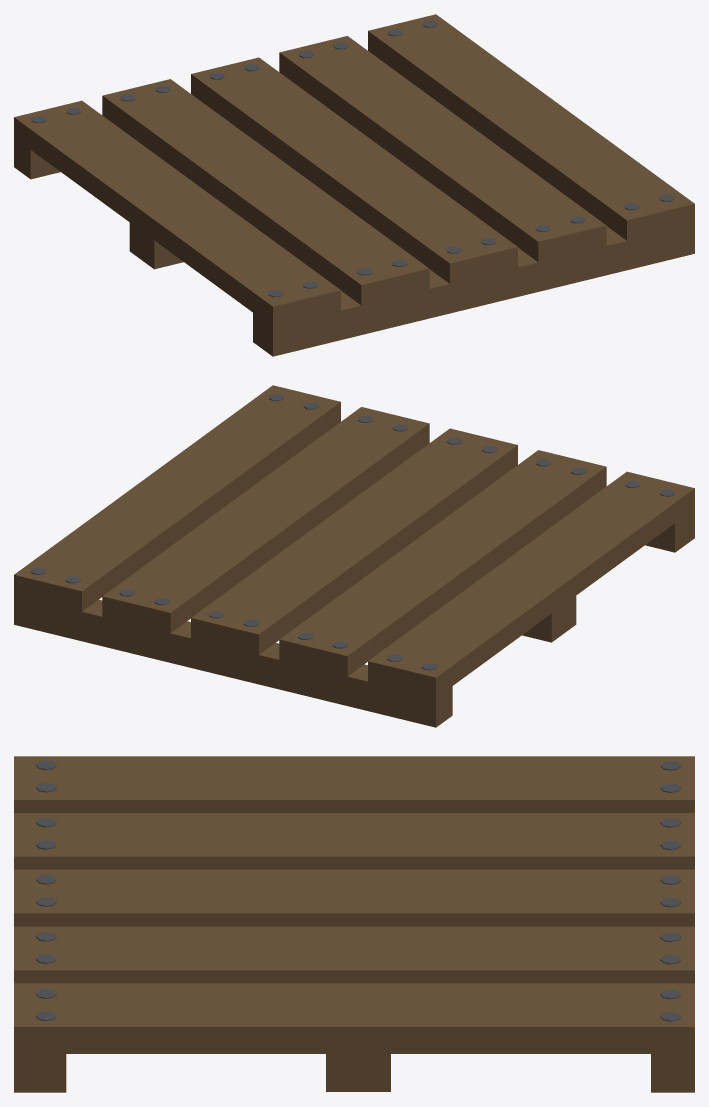
File: WoodenPallet.fbx
The picture shows the model from 3 angles, top to bottom: view 1: azimuth 30°, elevation 25°; view 2: azimuth 150°, elevation 25°; view 3: azimuth 270°, elevation 25°; orthographic projection. The views are drawn at different scales.
Parts seen in each view (by area): view 1: WoodenPallet; view 2: WoodenPallet; view 3: WoodenPallet.
Boxes of the visible parts, left/top/right/bottom form: WoodenPallet: left=14, top=14, right=694, bottom=356; WoodenPallet: left=14, top=385, right=694, bottom=727; WoodenPallet: left=14, top=756, right=694, bottom=1092.
Size of the model in its own units: 89.77 by 10.33 by 95.39.
